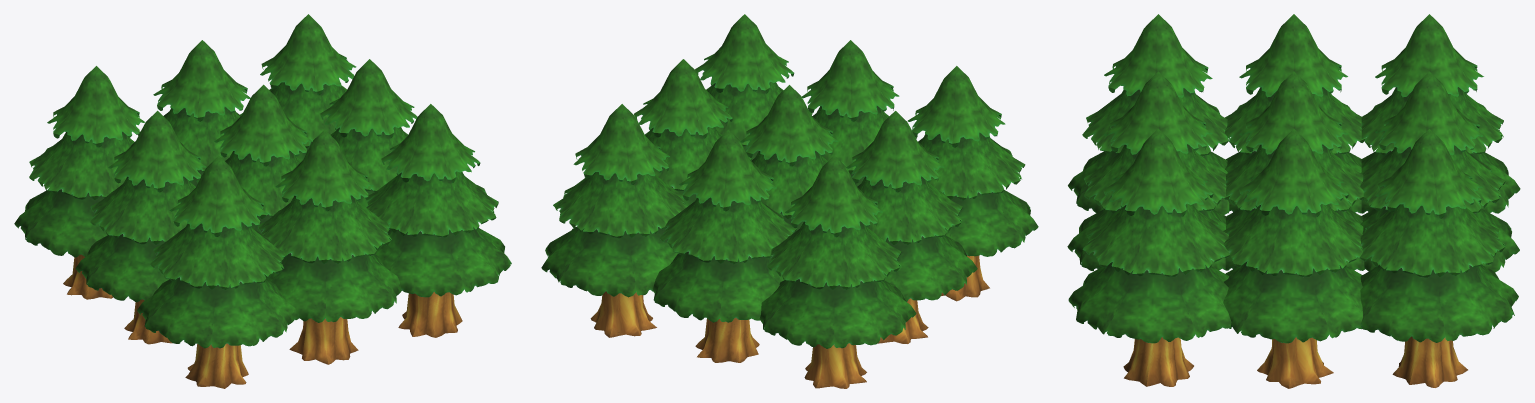
Rendered from Tree 7.fbx.
3 renders of one model, left to right at view 1: azimuth 30°, elevation 25°; view 2: azimuth 150°, elevation 25°; view 3: azimuth 270°, elevation 25°, orthographic. The views are drawn at different scales.
Visible parts, largest first — view 1: tree7; view 2: tree7; view 3: tree7.
Boxes of the visible parts, left/top/right/bottom form: tree7: left=14, top=14, right=511, bottom=388; tree7: left=541, top=14, right=1038, bottom=388; tree7: left=1067, top=14, right=1520, bottom=388.
Size of the model in its own units: 3.34 by 1.99 by 3.34.
